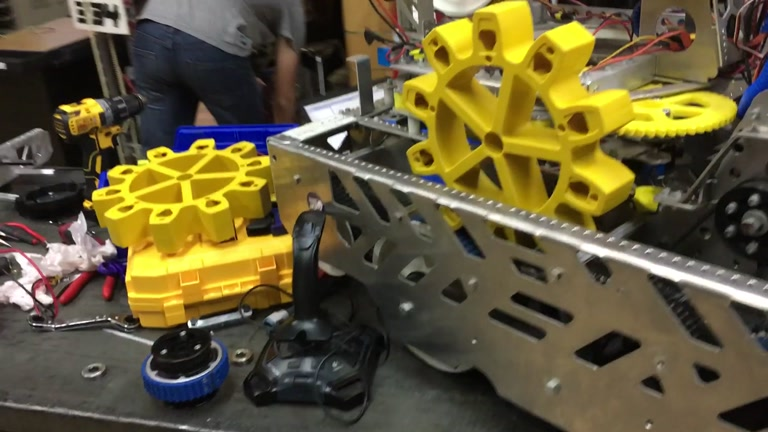gear: (404, 1, 635, 265), (91, 139, 277, 253)
